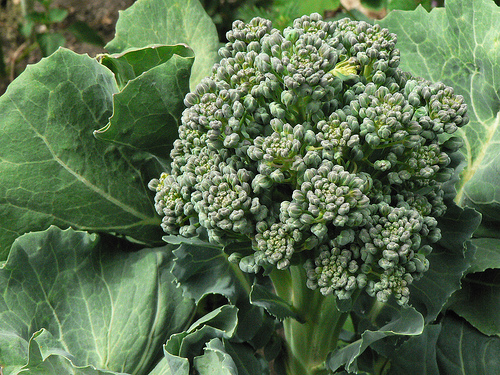broccoli: (146, 6, 473, 315)
